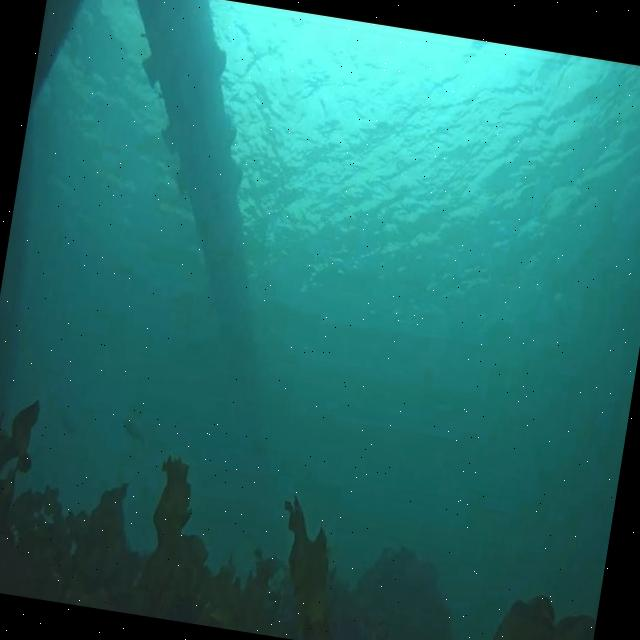fish: (118, 414, 150, 451), (58, 411, 84, 442)
